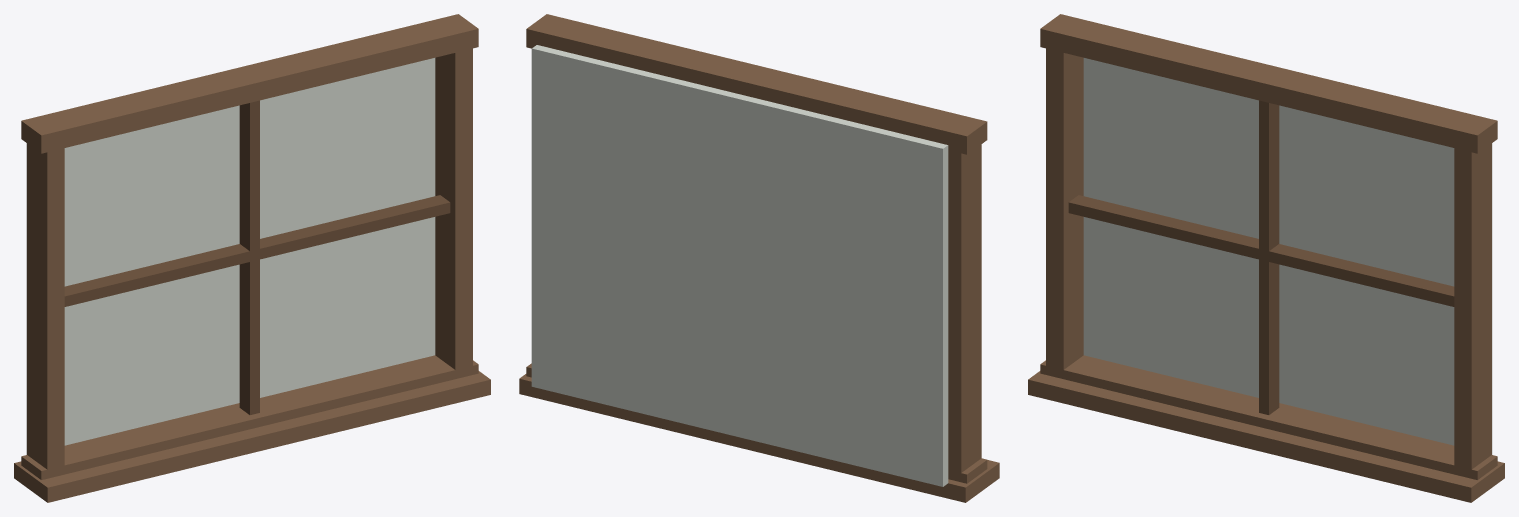
Rendered from window.glb.
3 renders of one model, left to right at view 1: azimuth 30°, elevation 25°; view 2: azimuth 150°, elevation 25°; view 3: azimuth 330°, elevation 25°, orthographic.
Bounding box in the file's own units: 1.52 × 1.18 × 0.23.
